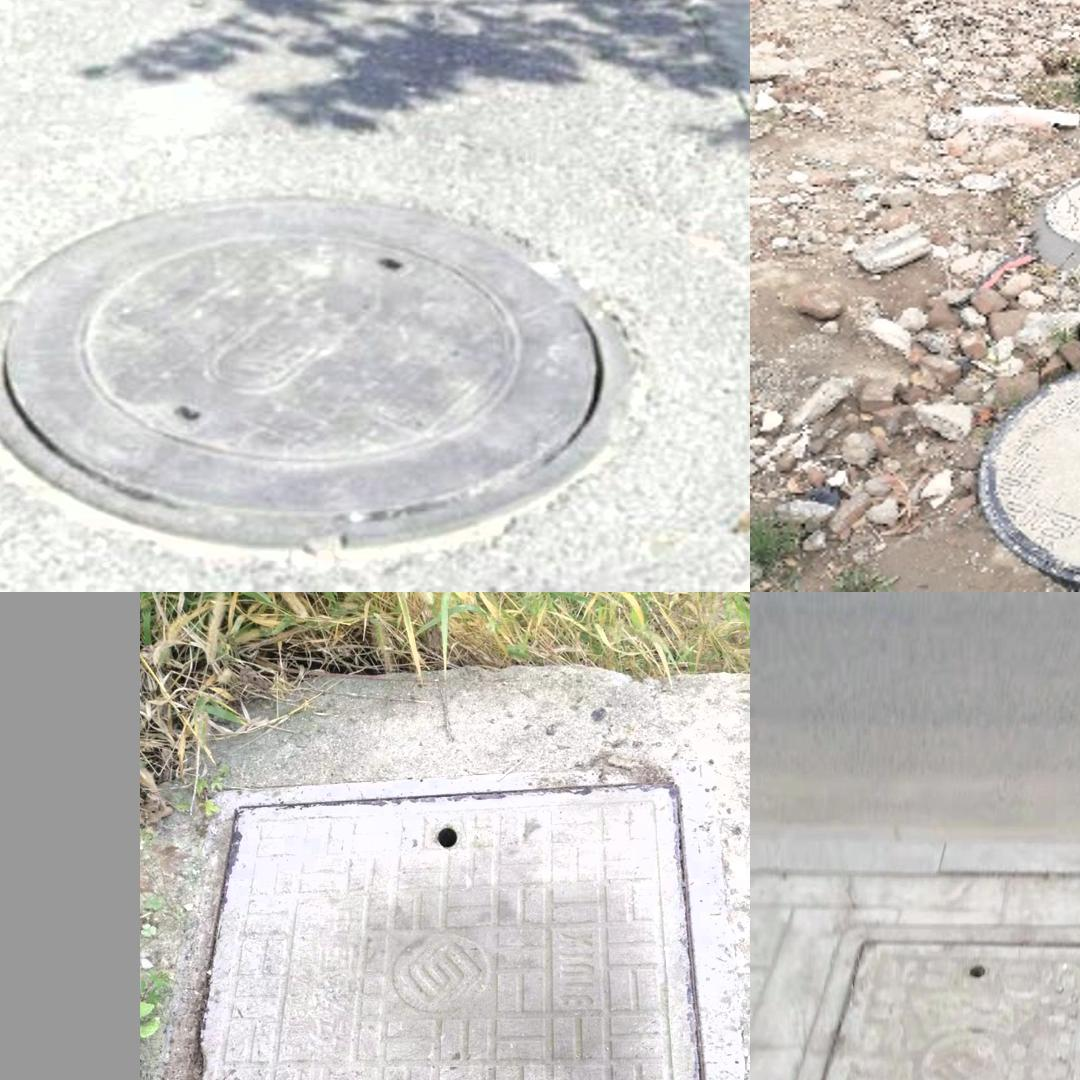good: (0, 185, 653, 553), (144, 769, 750, 1080), (774, 921, 1080, 1080), (978, 352, 1080, 592), (1043, 164, 1080, 248)
